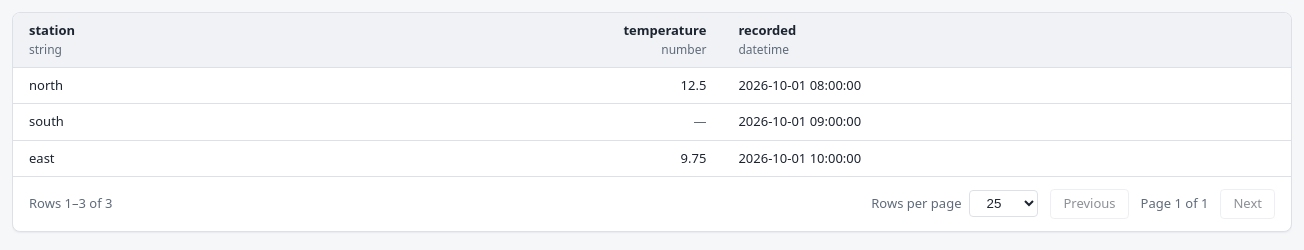
Test: DataTable › sorts ascending, then descending, keeping missing values last
The image size is (1304, 250).
Step 1. Click the button "temperature number" → point(665, 30), box [300, 13, 722, 66]
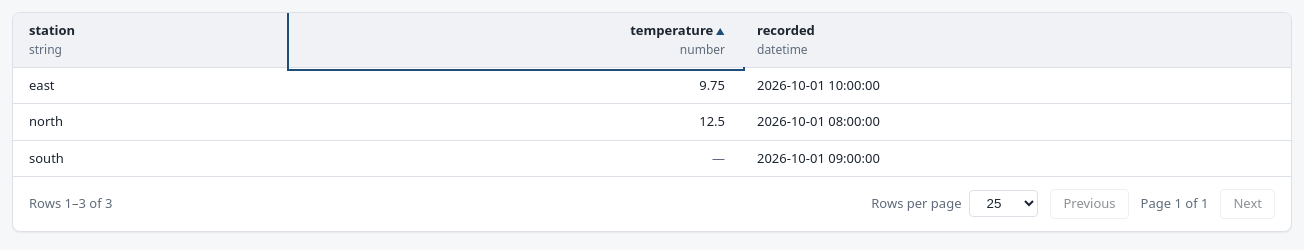
Now the column heading "temperature ▲ number" has attribute aria-sort="ascending"
Step 2. Click the button "temperature ▲ number" → point(672, 30), box [291, 13, 741, 66]
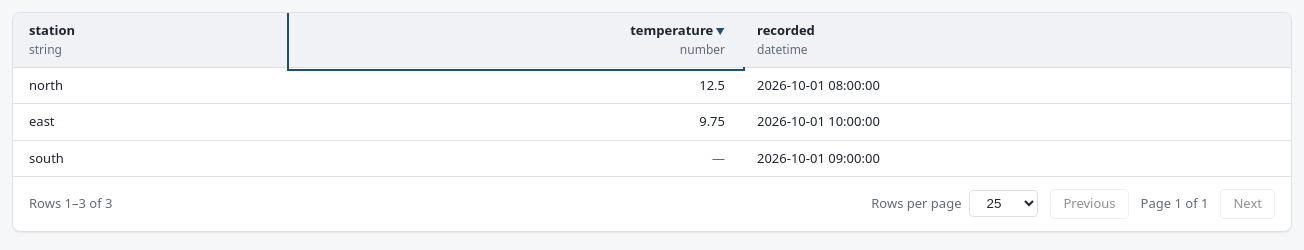
Now the column heading "temperature ▼ number" has attribute aria-sort="descending", box [291, 13, 741, 67]
